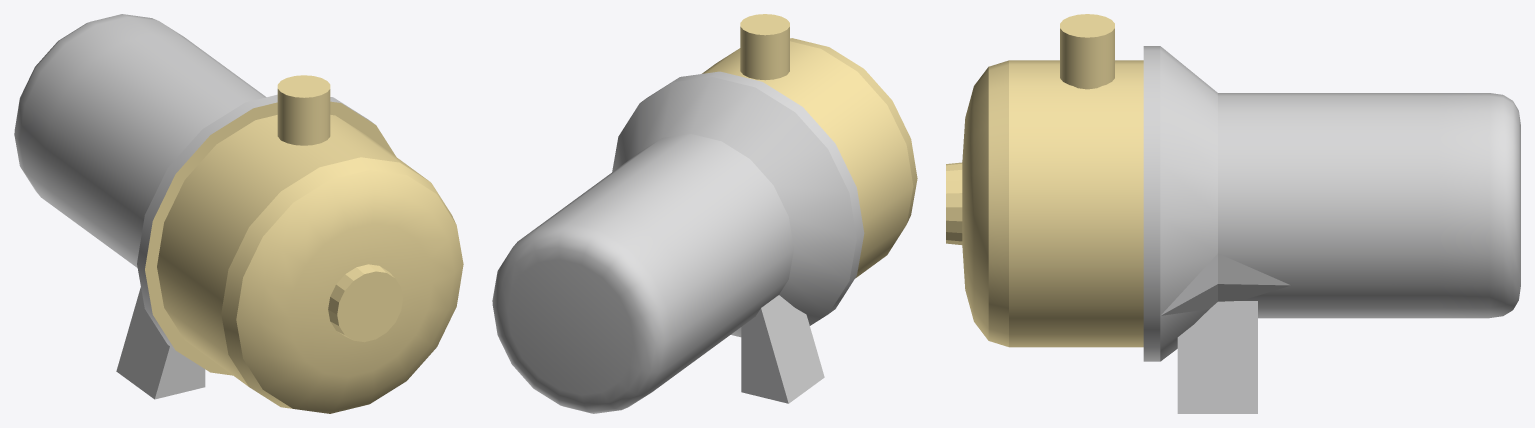
File: 2 TEXTURAS EB1.glb
The picture shows the model from 3 angles, left to right: view 1: azimuth 30°, elevation 25°; view 2: azimuth 150°, elevation 25°; view 3: azimuth 270°, elevation 25°; orthographic projection. The views are drawn at different scales.
Parts seen in each view (by area): view 1: Cylinder002; view 2: Cylinder002; view 3: Cylinder002.
Boxes of the visible parts, left/top/right/bottom form: Cylinder002: left=14, top=14, right=463, bottom=413; Cylinder002: left=492, top=14, right=917, bottom=413; Cylinder002: left=946, top=14, right=1520, bottom=413.
Bounding box in the file's own units: 196 × 228 × 355.
